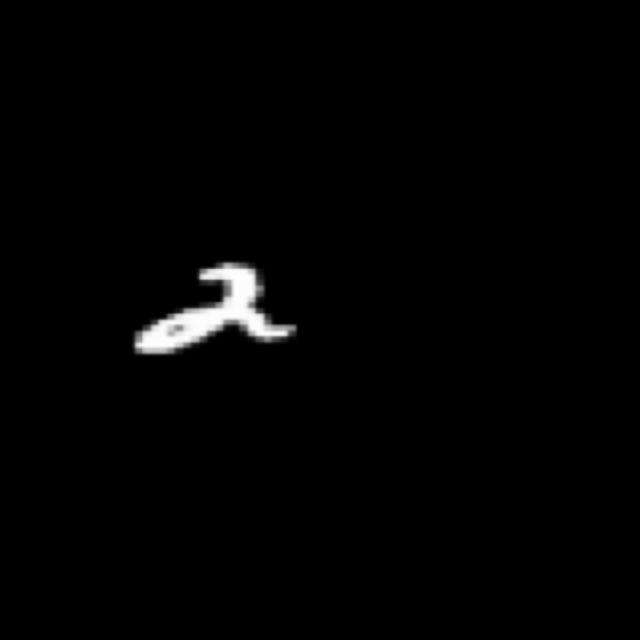two -2-: (125, 255, 308, 364)
